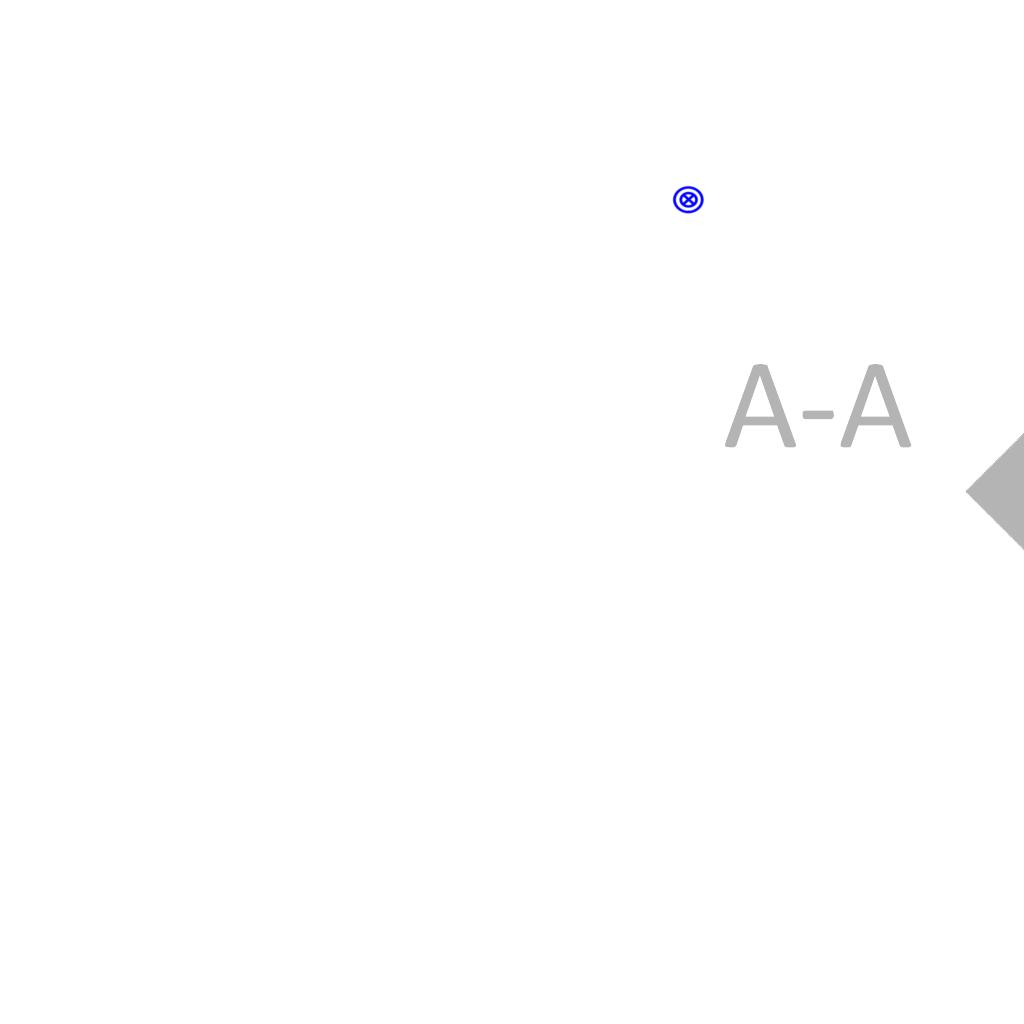Taster_beleuchtet: (672, 183, 705, 216)
